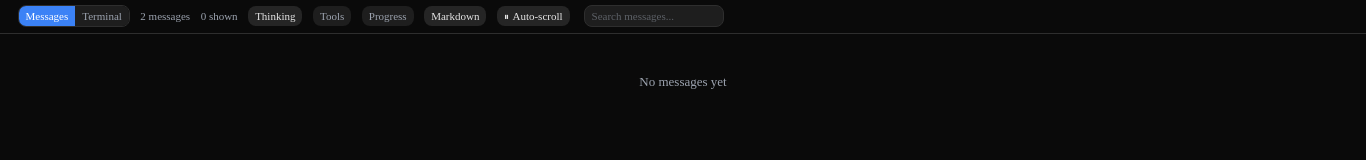
Test: MessageList tool pairing › pairs tool_use + tool_result by toolId into a single ToolPairBlock
The width and height of the screenshot is (1366, 160).
Click the button with aria-label "tool messages".
click(332, 16)  # box [313, 6, 351, 26]
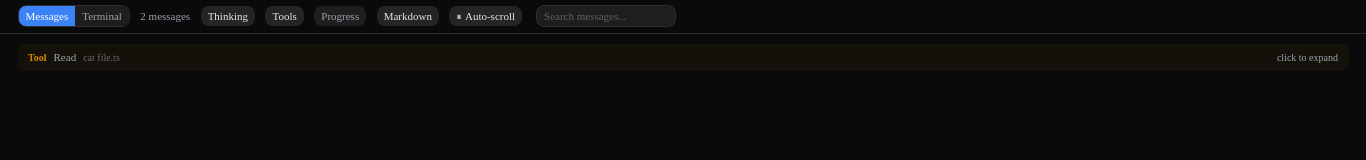
Check: the text "Read" is shown, box [54, 49, 76, 66]
Check: the text "click to expand" is shown once, box [1277, 50, 1338, 65]
